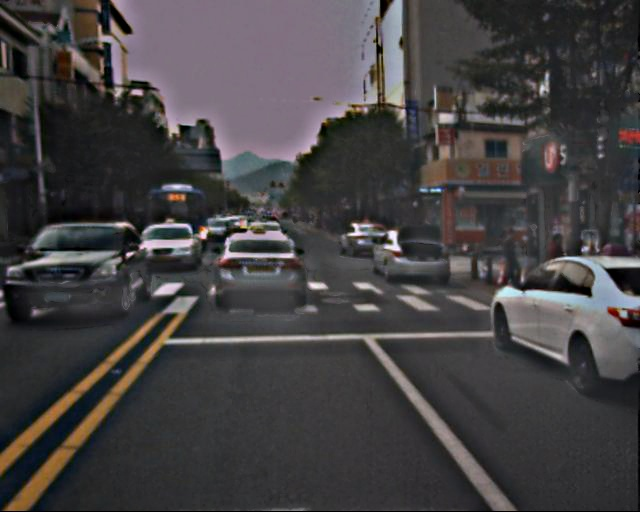person: (545, 235, 569, 294), (501, 226, 523, 287)
